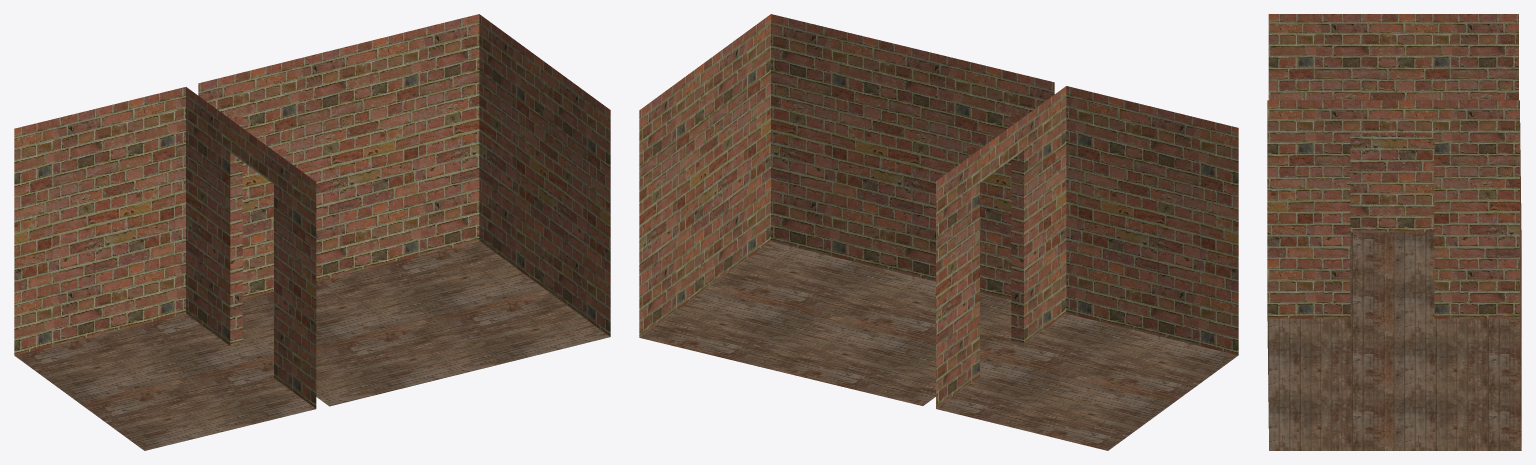
The model's file is room.gltf.
3 views of the same model, side by side, from view 1: azimuth 30°, elevation 25°; view 2: azimuth 150°, elevation 25°; view 3: azimuth 270°, elevation 25° (orthographic). The views are drawn at different scales.
Parts seen in each view (by area): view 1: Plane; view 2: Plane; view 3: Plane.
Part boxes in pixels (x1,y1,x2,y2): Plane: (14,14,610,450); Plane: (639,14,1238,450); Plane: (1267,14,1521,450).
Bounding box in the file's own units: 4.1 × 1.91 × 2.01.
Materials: 2 (2 with a texture image).
